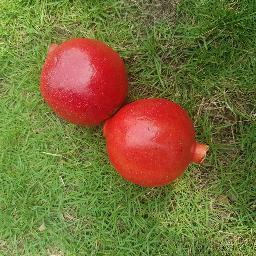Good_pomegranate: (39, 37, 193, 125), (112, 107, 204, 185)
